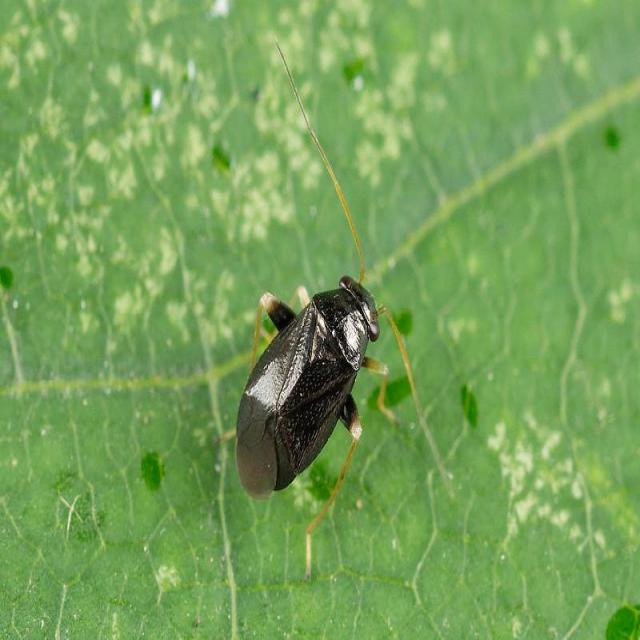Miridae-Adult-: (199, 151, 437, 526)
